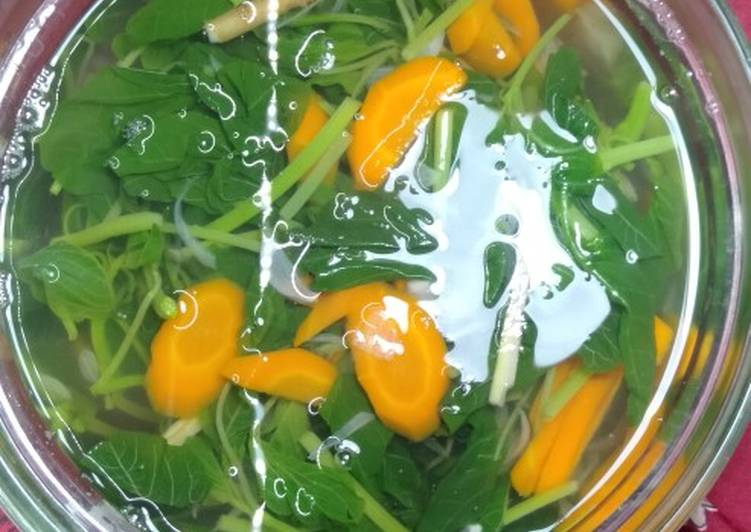Sayur Bayam: (4, 5, 721, 512)
